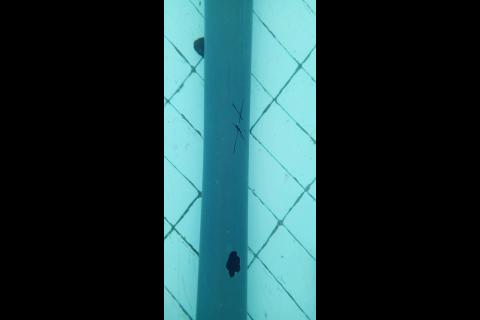kebocoran: (224, 249, 241, 276)
keretakan: (232, 100, 247, 155)
